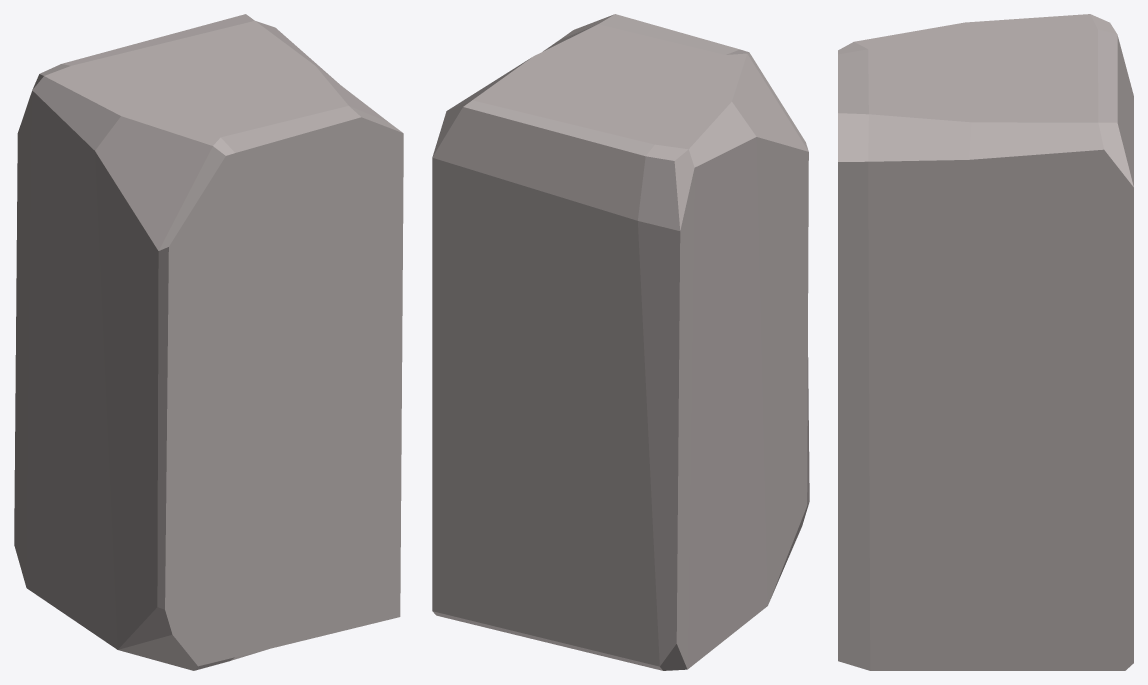
File: StoneHenge_Stone3.fbx
3 views of the same model, side by side, from view 1: azimuth 30°, elevation 25°; view 2: azimuth 150°, elevation 25°; view 3: azimuth 270°, elevation 25° (orthographic). The views are drawn at different scales.
Parts seen in each view (by area): view 1: StoneHenge_Stone3; view 2: StoneHenge_Stone3; view 3: StoneHenge_Stone3.
Part boxes in pixels (<box>): StoneHenge_Stone3: <box>14,14,403,670</box>; StoneHenge_Stone3: <box>432,14,809,670</box>; StoneHenge_Stone3: <box>838,14,1133,670</box>.
Size of the model in its own units: 78.74 by 78.74 by 157.
